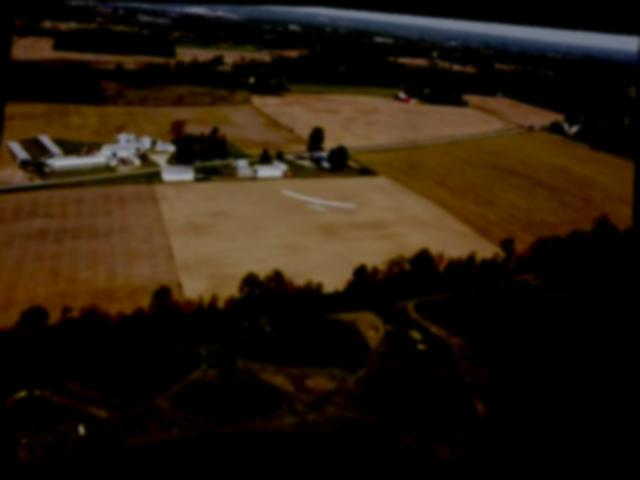uav: (275, 175, 365, 226)
